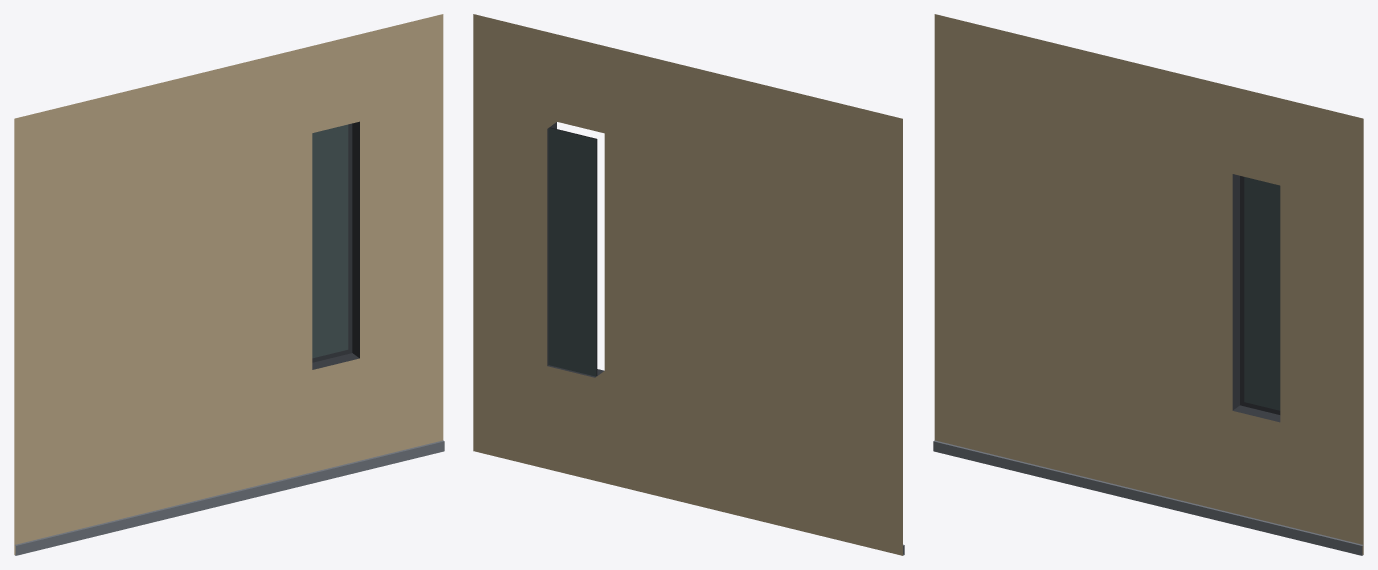
File: top-w4.fbx
3 renders of one model, left to right at view 1: azimuth 30°, elevation 25°; view 2: azimuth 150°, elevation 25°; view 3: azimuth 330°, elevation 25°, orthographic.
Parts seen in each view (by area): view 1: a2000/800/top-w4; view 2: a2000/800/top-w4; view 3: a2000/800/top-w4.
Boxes of the visible parts, x1=… form: a2000/800/top-w4: x1=14, y1=14, x2=444, y2=555; a2000/800/top-w4: x1=473, y1=14, x2=904, y2=555; a2000/800/top-w4: x1=933, y1=14, x2=1363, y2=555.
Size of the model in its own units: 3.6 by 3.5 by 0.16.
